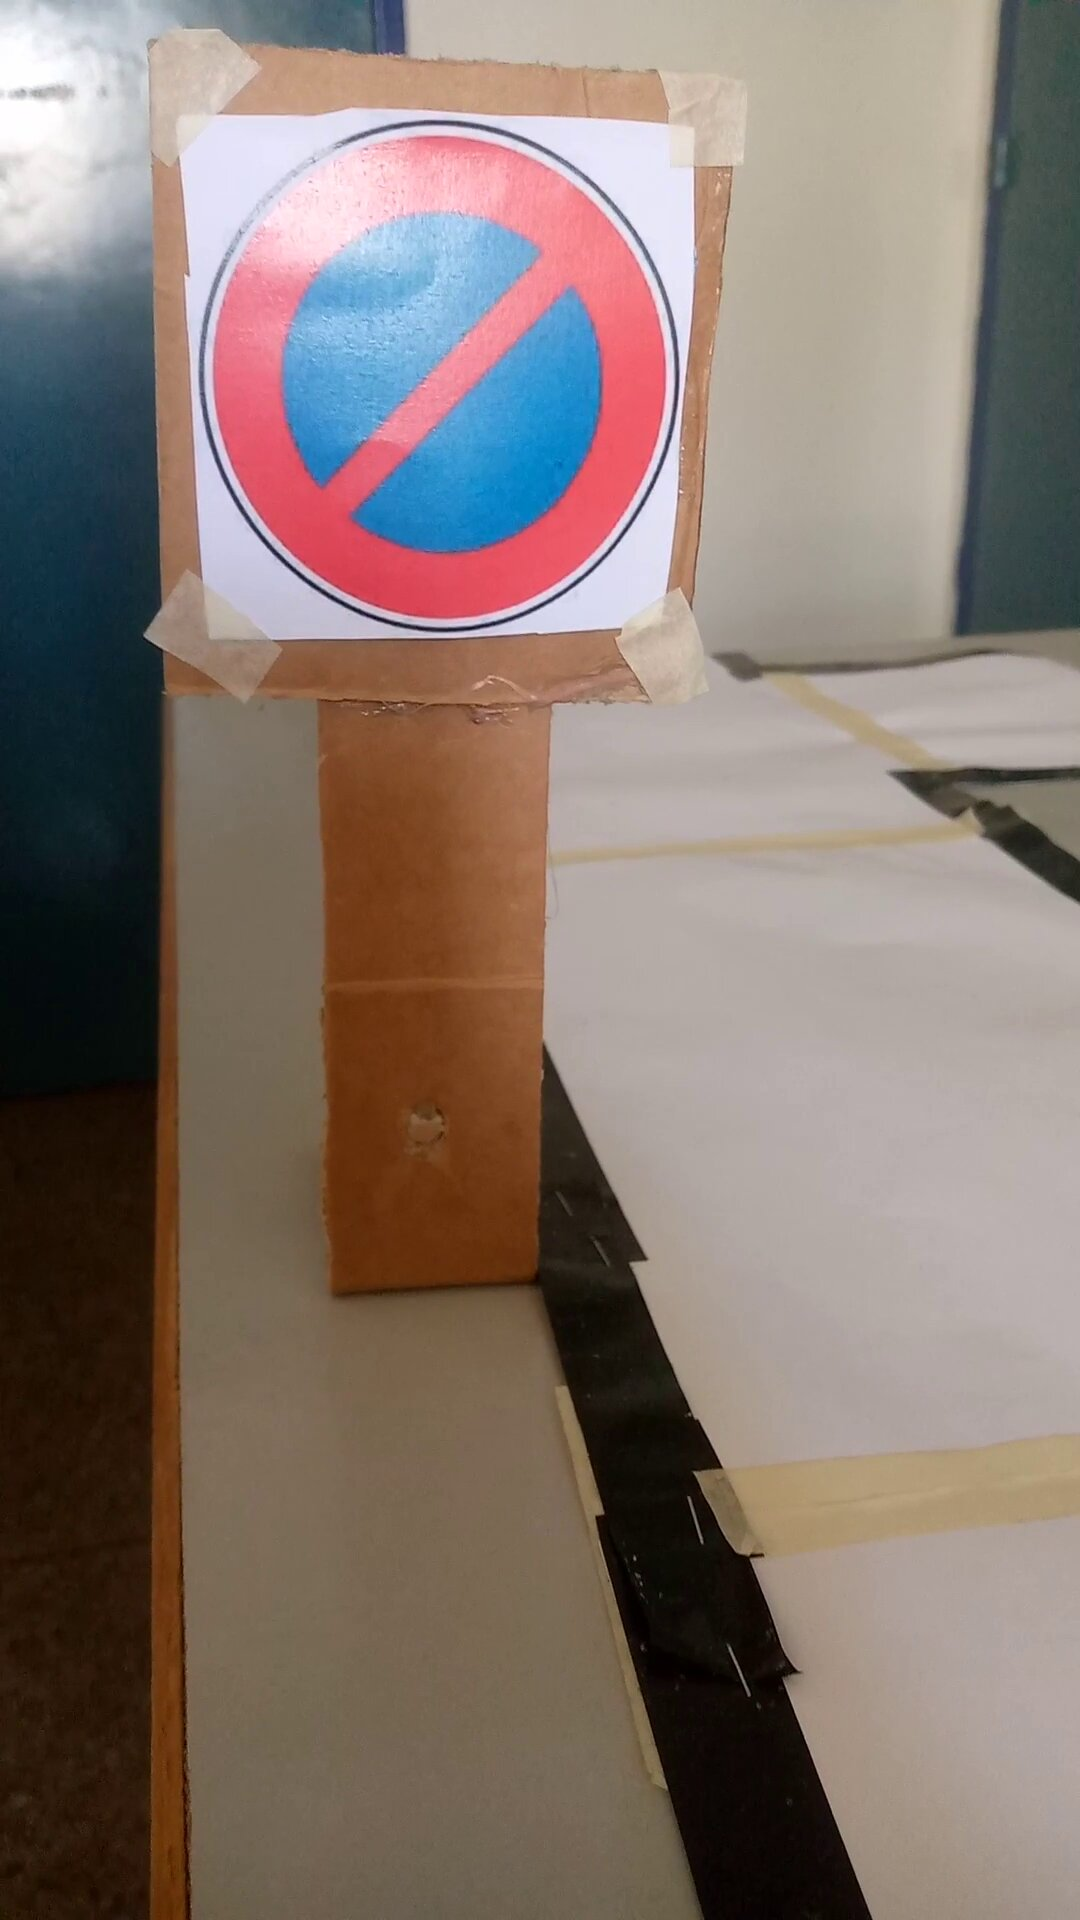panel110: (175, 105, 704, 659)
